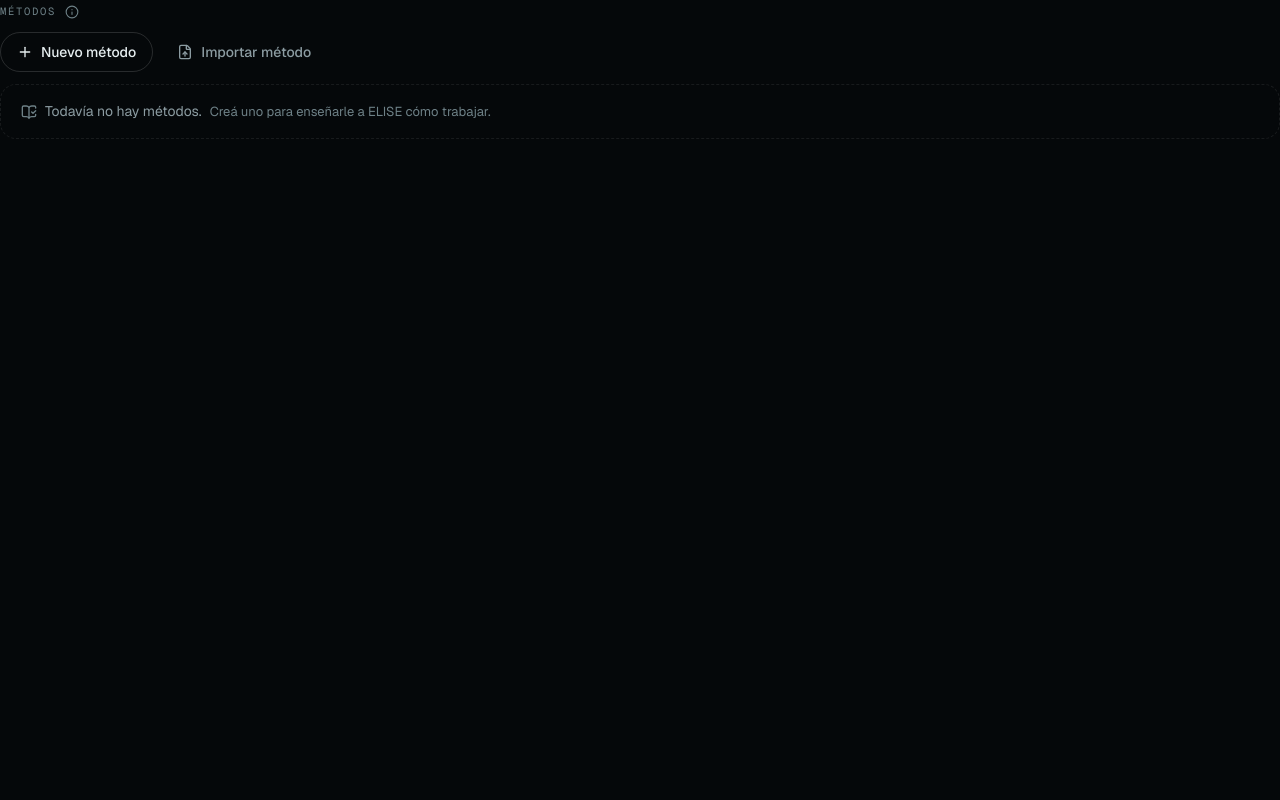
Test: Methods in Knowledge › a new Method is saved where it was opened ({"id":"g","name":"General","parentId":null,"path":"General","general":true}.name), with no scope selector
The width and height of the screenshot is (1280, 800).
Click the button "Nuevo método" at (77, 52), box [0,32,153,72]
(page scrolled)
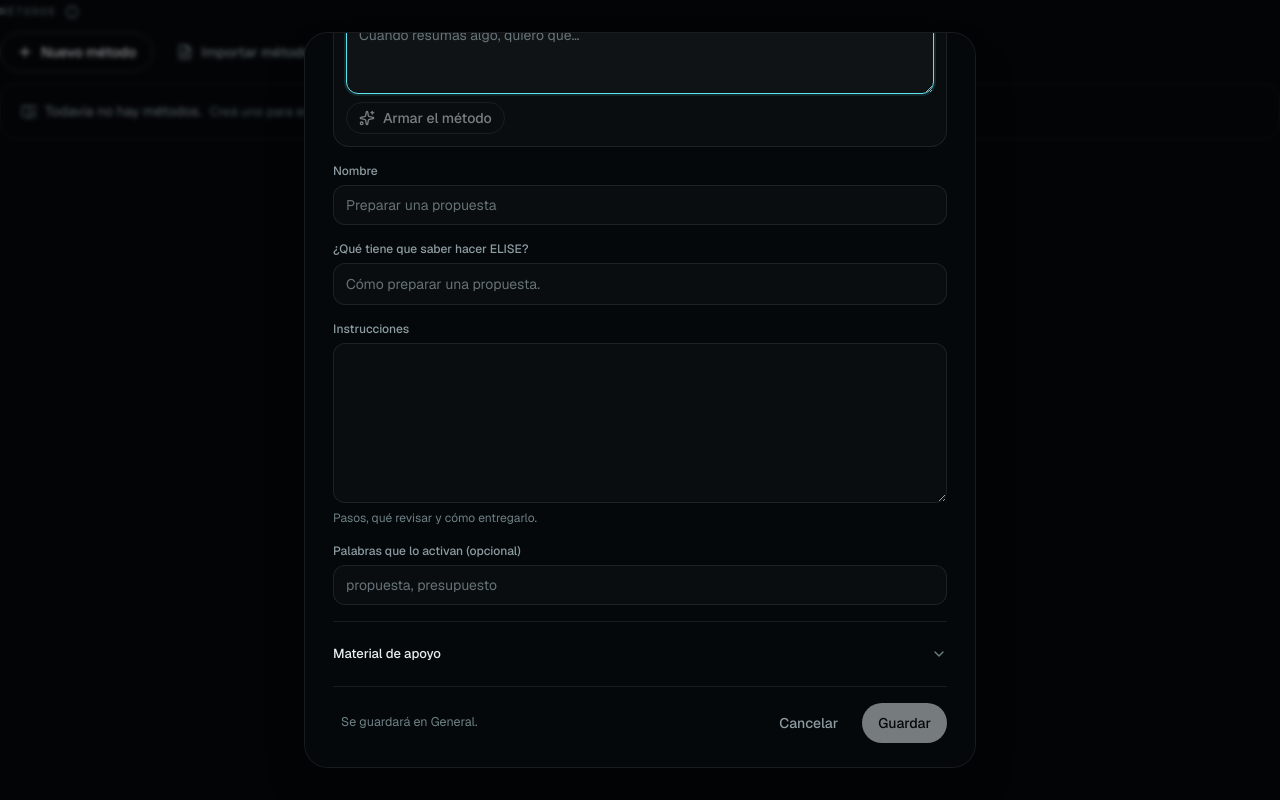
Check: the text "Se guardará en General." is shown, box [341,713,478,732]
